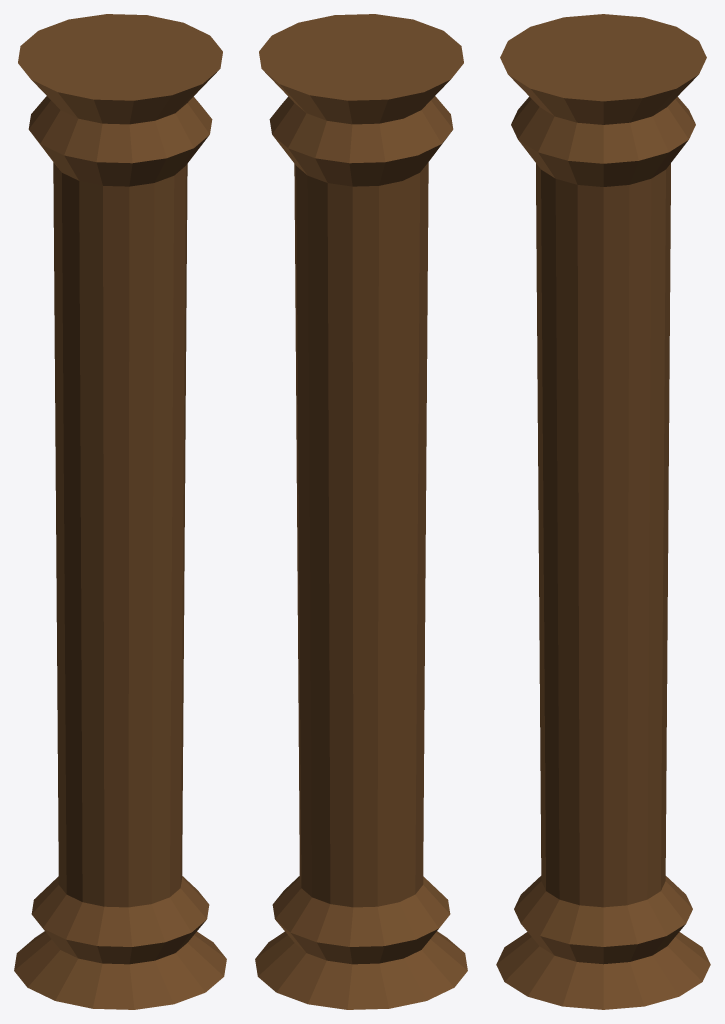
The model's file is pillar.fbx.
3 views of the same model, side by side, from view 1: azimuth 30°, elevation 25°; view 2: azimuth 150°, elevation 25°; view 3: azimuth 270°, elevation 25° (orthographic).
Visible parts, largest first — view 1: Pillar1; view 2: Pillar1; view 3: Pillar1.
Boxes of the visible parts, <box> form: Pillar1: <box>14,14,226,1009</box>; Pillar1: <box>255,14,467,1009</box>; Pillar1: <box>496,14,710,1009</box>.
Bounding box in the file's own units: 85.75 × 400 × 85.75.
